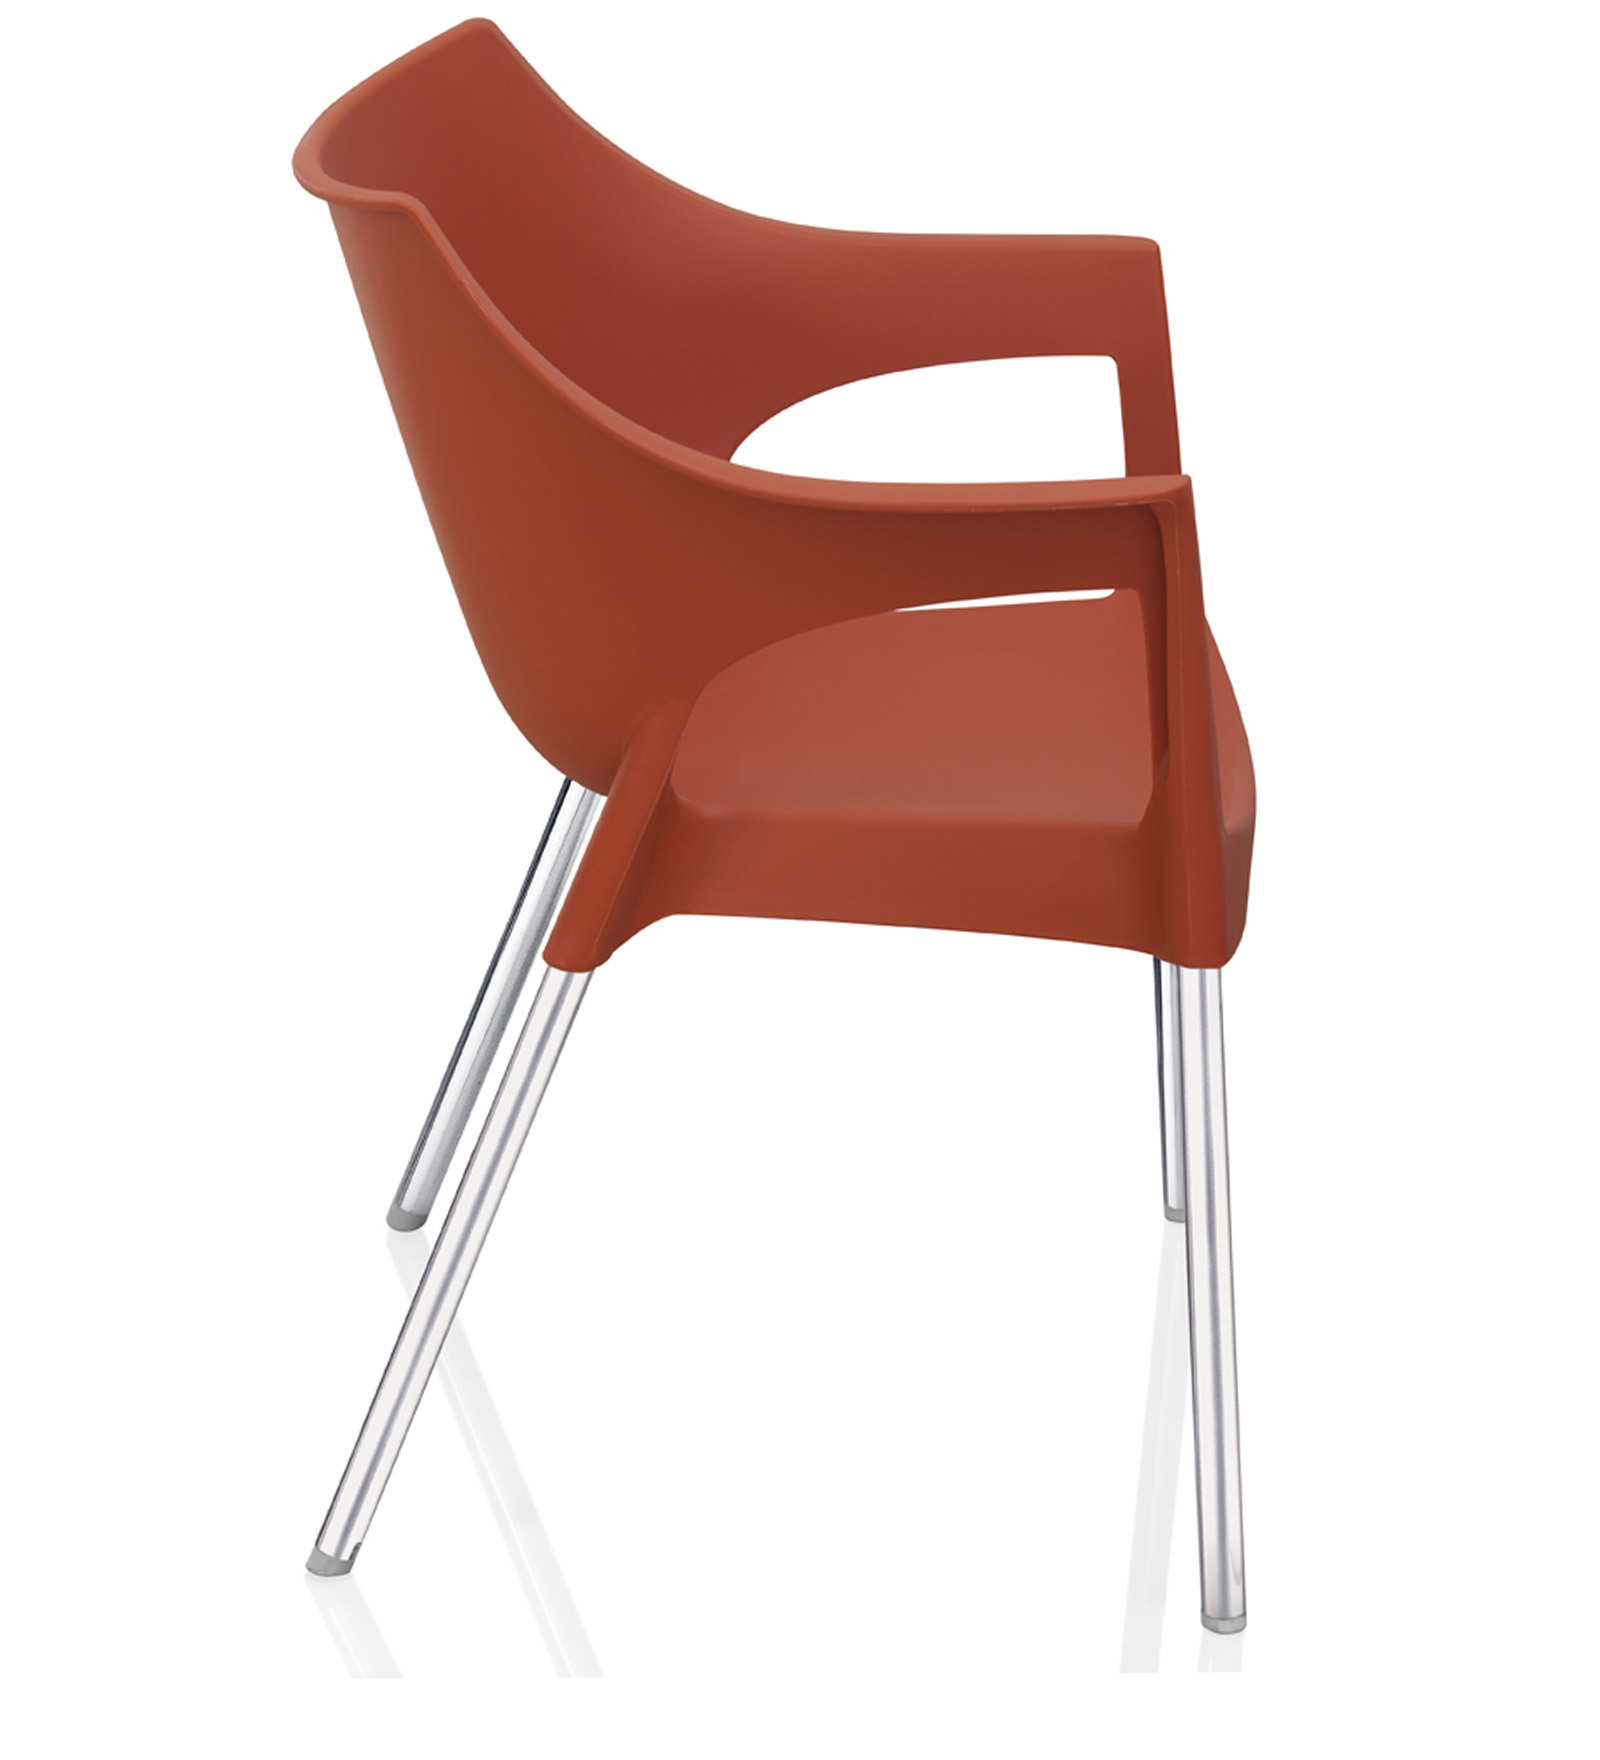Novella Series - 10 Chair (Set of 2) in Rust Colour by Nilkamal: (285, 8, 1267, 1640)
